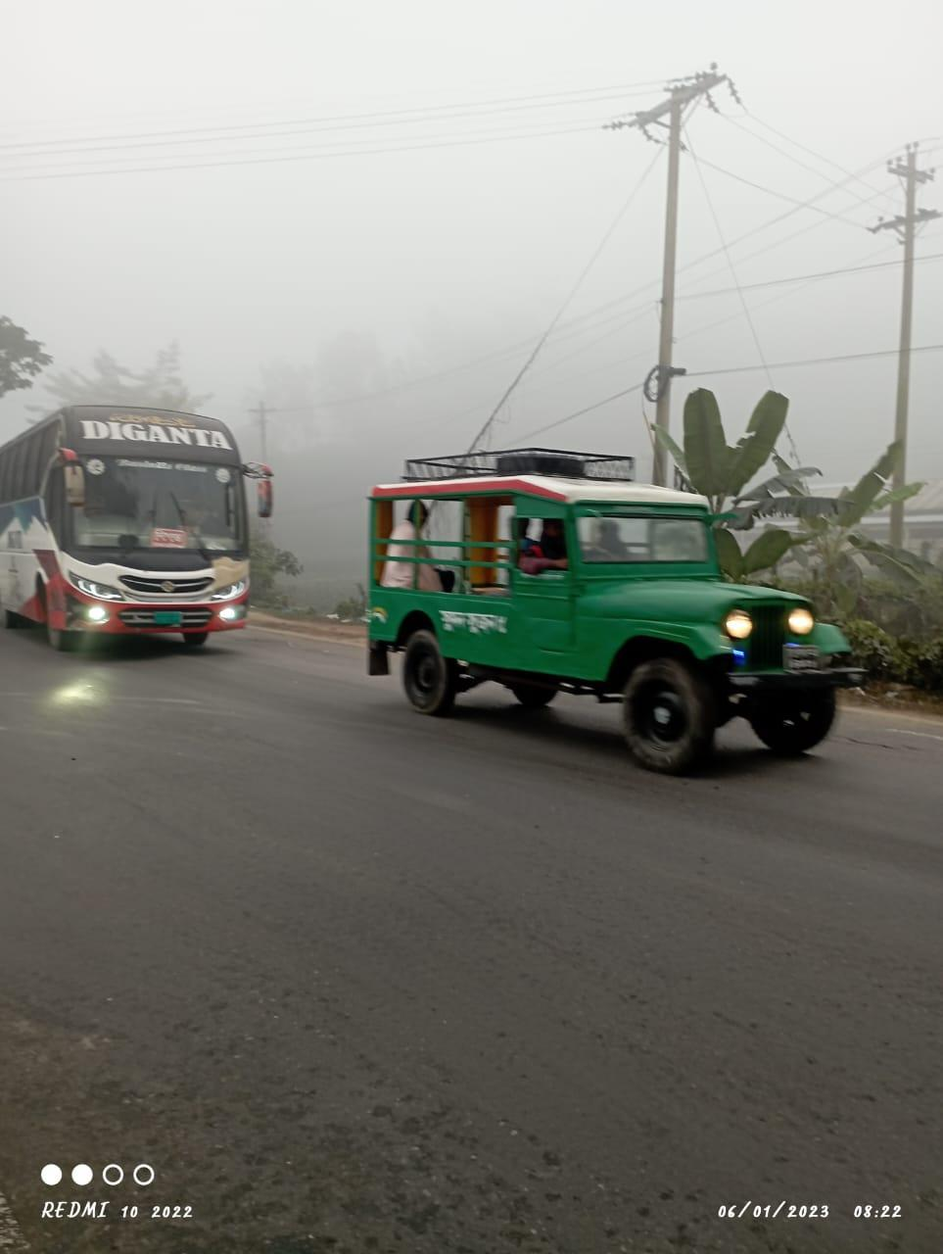Bus: (4, 397, 271, 666)
Car: (338, 434, 870, 776)
